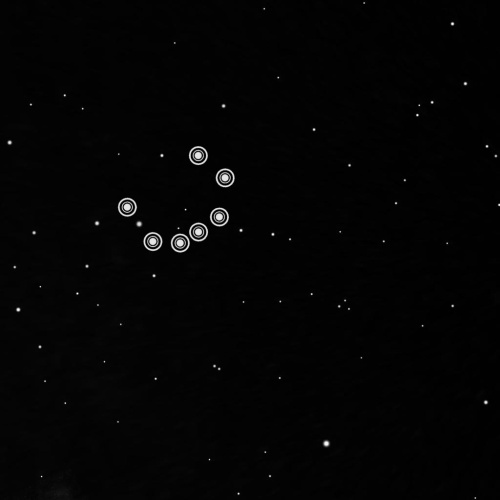corona_borealis: (111, 142, 239, 257)
